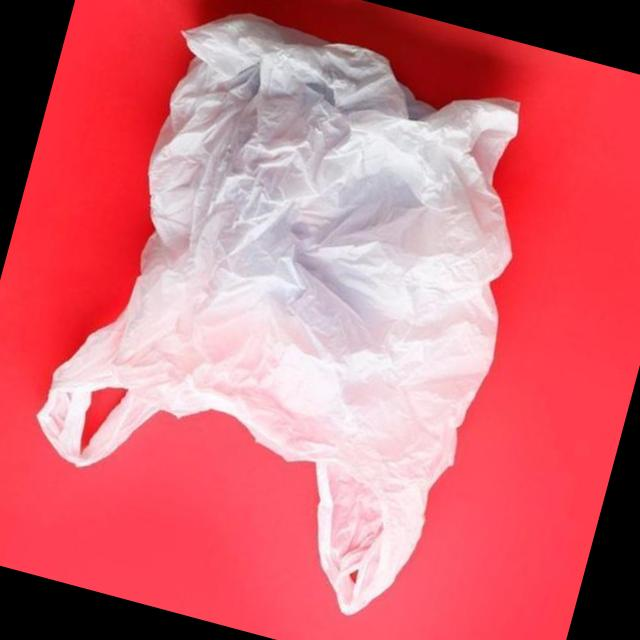KantongPlastik: (6, 0, 565, 637)
